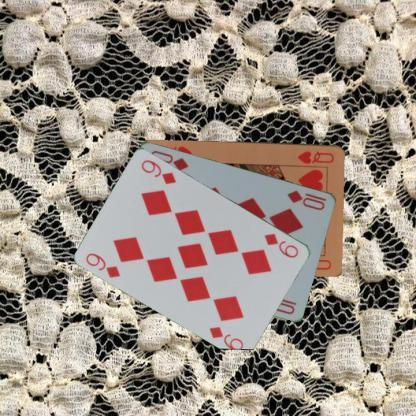10d: (284, 187, 328, 212)
9d: (262, 230, 300, 260), (83, 250, 122, 279)
Qh: (294, 148, 336, 166)
